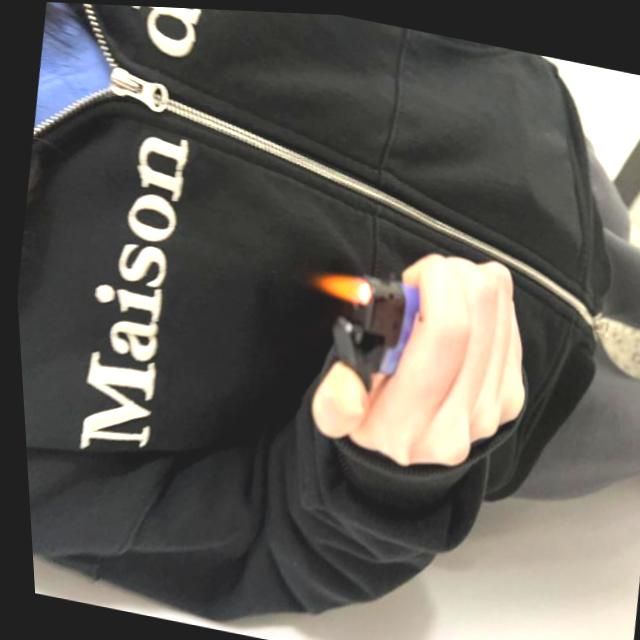Fire: (306, 264, 372, 301)
